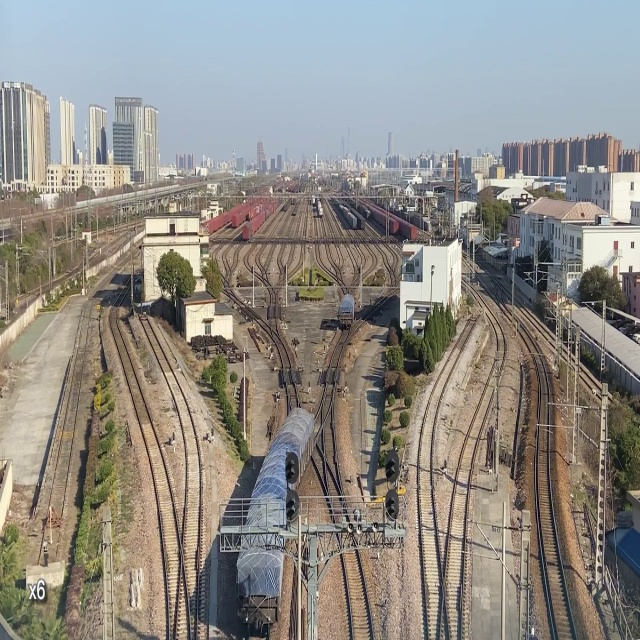train: (334, 292, 358, 331)
